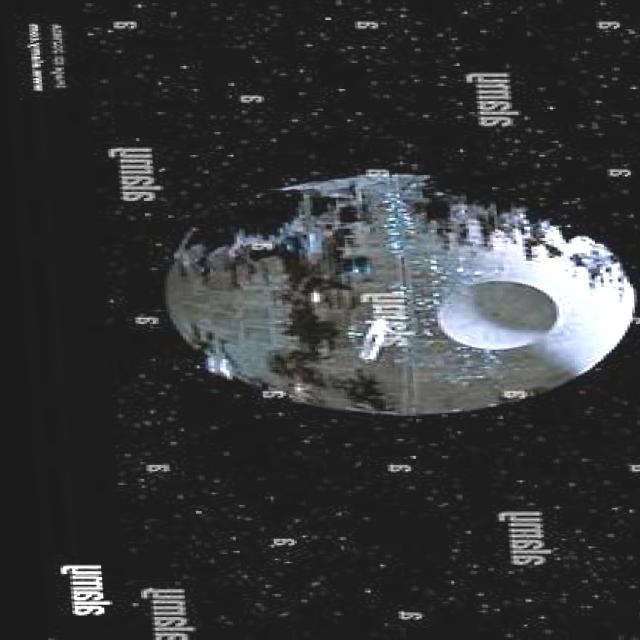deathStar: (155, 173, 635, 420)
